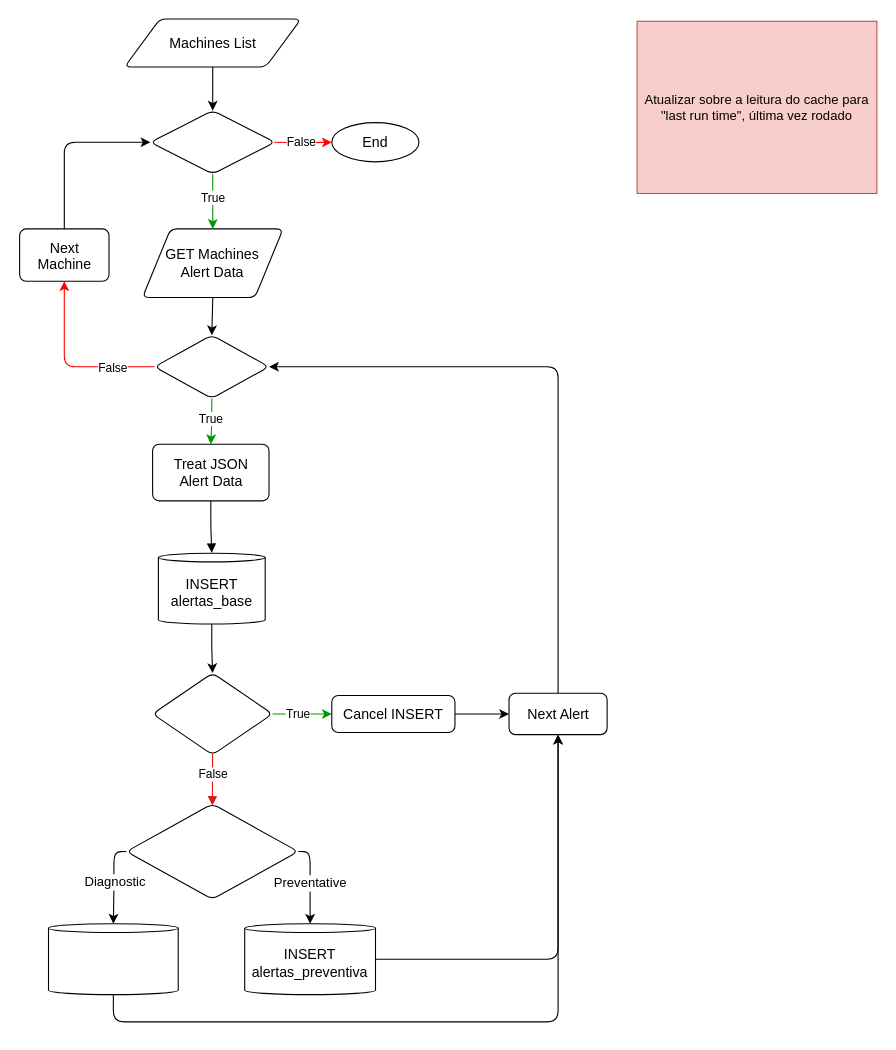
Image size: 896x1050. Some labels were removed from this diagram. Each missing label, with the centre of its shape:
Alert ID in Database?: the point at 212,713
Diagnostic Alert or Preventative?: the point at 211,851
INSERT alertas_diagnostico: the point at 112,959
Still Alerts?: the point at 211,366
Still Machines?: the point at 212,142
